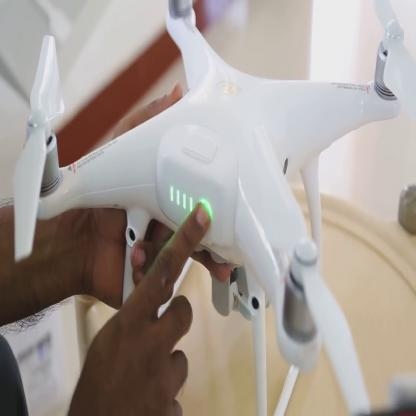drone: (11, 3, 416, 396)
